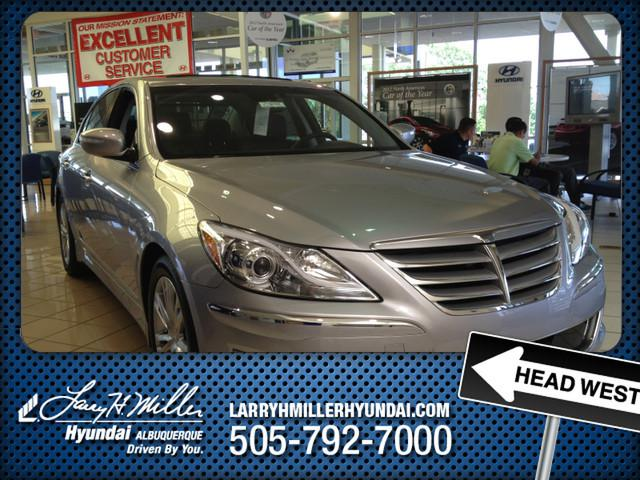Car: (44, 62, 621, 386)
